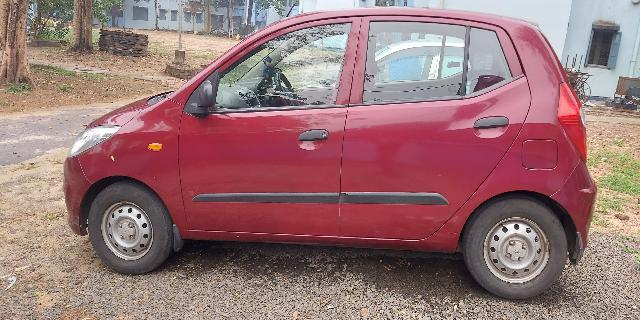Car: (56, 13, 599, 309)
